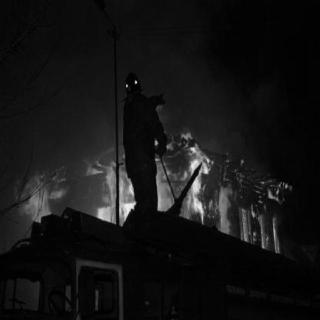Fire: (158, 136, 294, 252), (1, 160, 131, 226)
